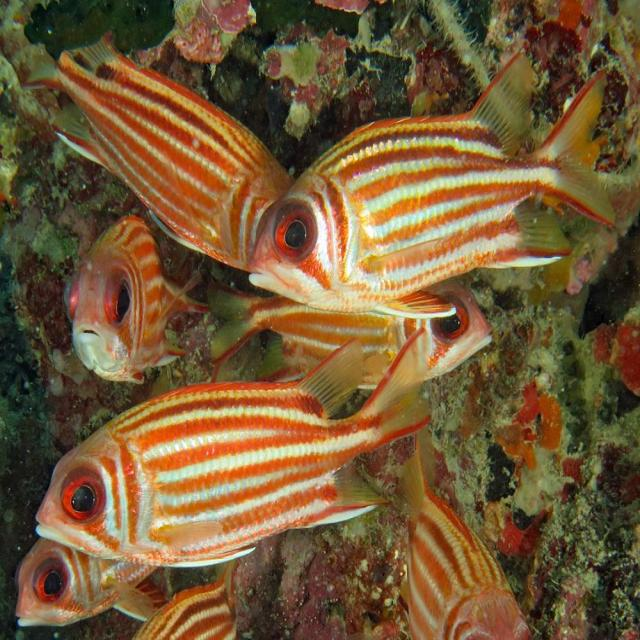Asker Baligi: (246, 49, 617, 320), (32, 325, 434, 570)
